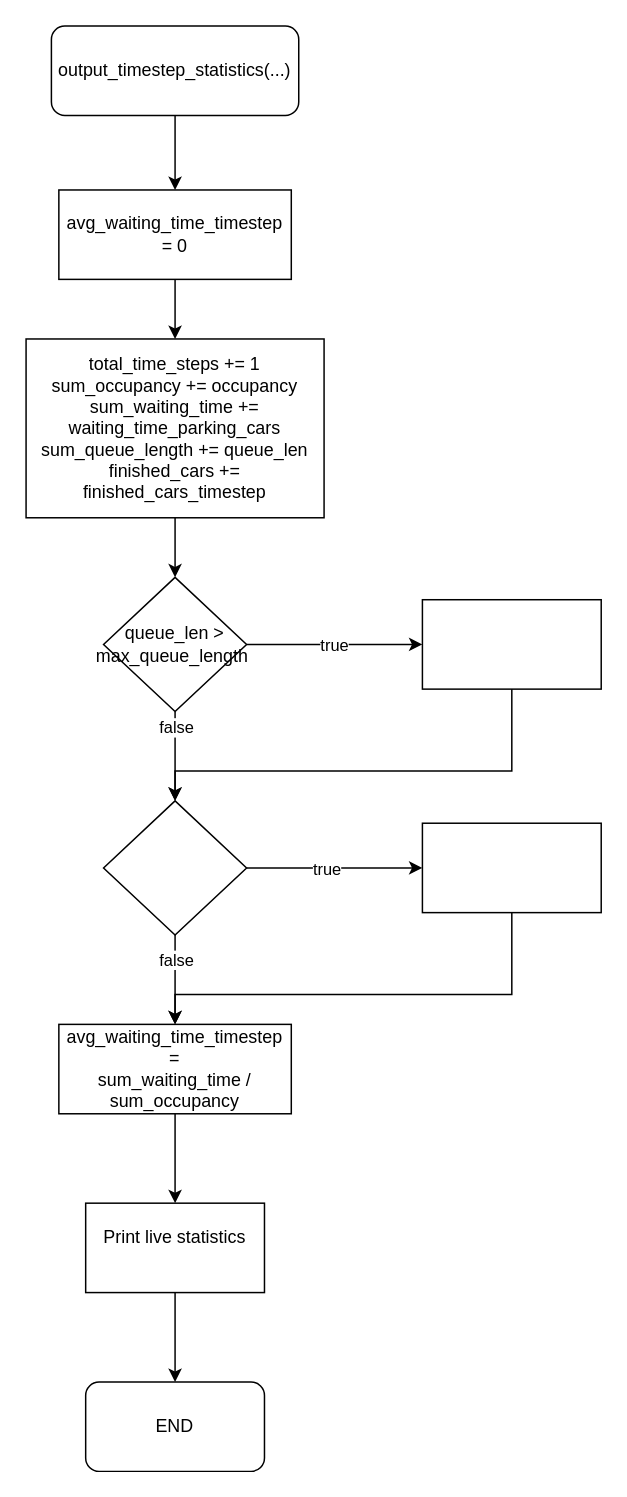
Some shapes in this 627 by 1497 pixel diagram are drawn without their labels. The shapes that lost their labels are listed below. From the top down, each one's box as (x1, y1, x2, y2) in pixels, then its label:
(421, 598, 601, 689): max_queue_length = queue_len
(102, 799, 247, 935): occupancy == PARK_NUM_SPACES
(421, 822, 601, 913): full_occupancy_steps += 1
